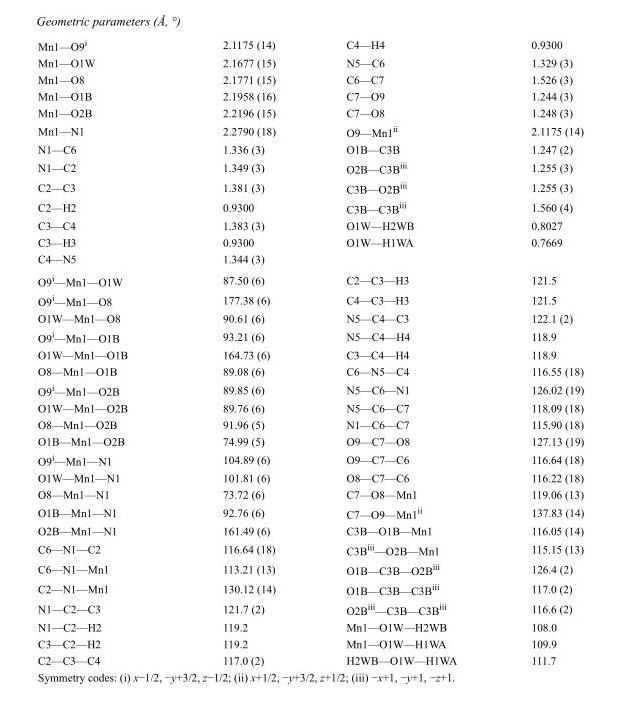table: (37, 36, 583, 666)
table column: (310, 36, 493, 666), (37, 36, 174, 666), (174, 36, 310, 666), (493, 36, 583, 666)
table row: (37, 268, 583, 289), (37, 120, 583, 140), (37, 157, 583, 177), (37, 177, 583, 197), (37, 289, 583, 309), (37, 326, 583, 346), (37, 379, 583, 399), (37, 449, 583, 469), (37, 502, 583, 522), (37, 558, 583, 578), (37, 578, 583, 598), (37, 598, 583, 618), (37, 197, 583, 216), (37, 539, 583, 558), (37, 36, 583, 54), (37, 250, 583, 268), (37, 70, 583, 87), (37, 87, 583, 104), (37, 140, 583, 157), (37, 216, 583, 233), (37, 233, 583, 250), (37, 309, 583, 326), (37, 362, 583, 379), (37, 415, 583, 432), (37, 432, 583, 449), (37, 485, 583, 502), (37, 522, 583, 539), (37, 618, 583, 635), (37, 54, 583, 70), (37, 104, 583, 120), (37, 346, 583, 362), (37, 399, 583, 415), (37, 469, 583, 485), (37, 635, 583, 651), (37, 651, 583, 666)
